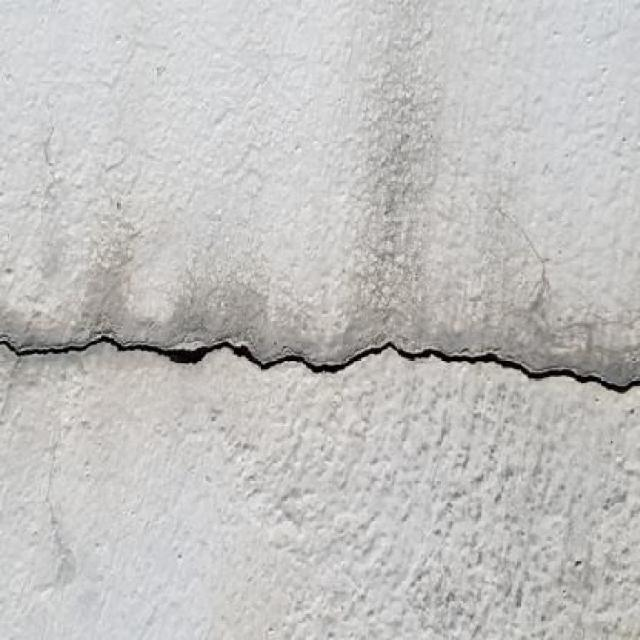GRIETA: (0, 336, 639, 393)
